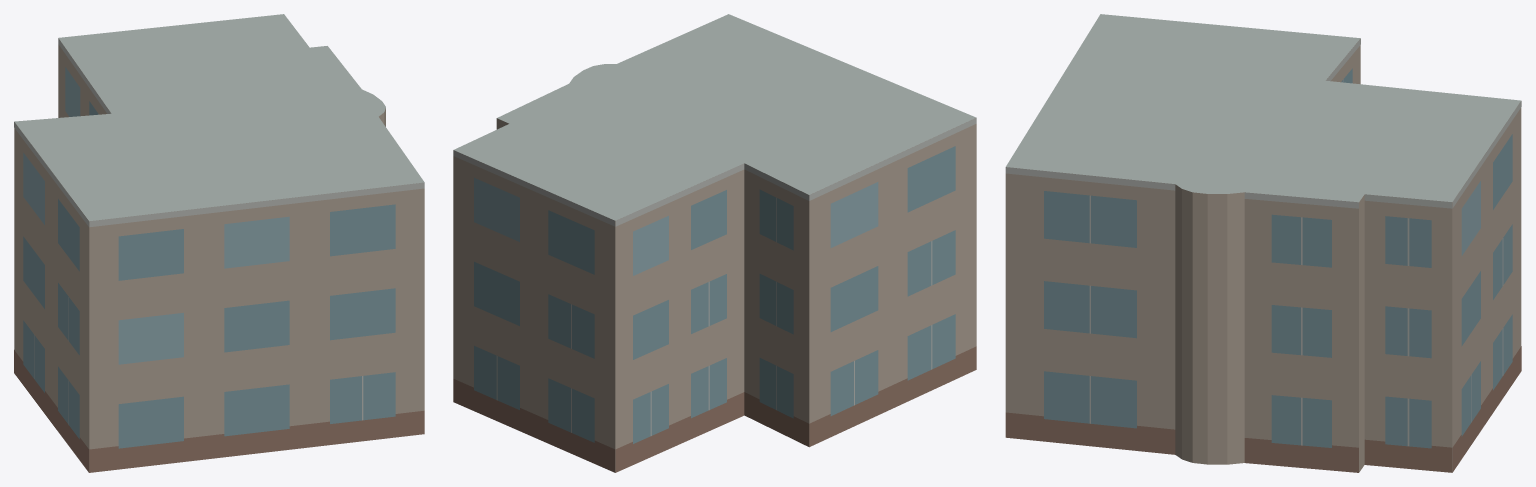
File: survey-upis-32935169.glb
3 views of the same model, side by side, from view 1: azimuth 30°, elevation 25°; view 2: azimuth 150°, elevation 25°; view 3: azimuth 270°, elevation 25° (orthographic). The views are drawn at different scales.
Visible parts, largest first — view 1: survey-upis-32935169.tmp; view 2: survey-upis-32935169.tmp; view 3: survey-upis-32935169.tmp.
Part boxes in pixels (<box>): survey-upis-32935169.tmp: <box>14,14,424,472</box>; survey-upis-32935169.tmp: <box>453,14,976,472</box>; survey-upis-32935169.tmp: <box>1005,14,1521,472</box>.
Size of the model in its own units: 15.23 by 10.2 by 17.63.
